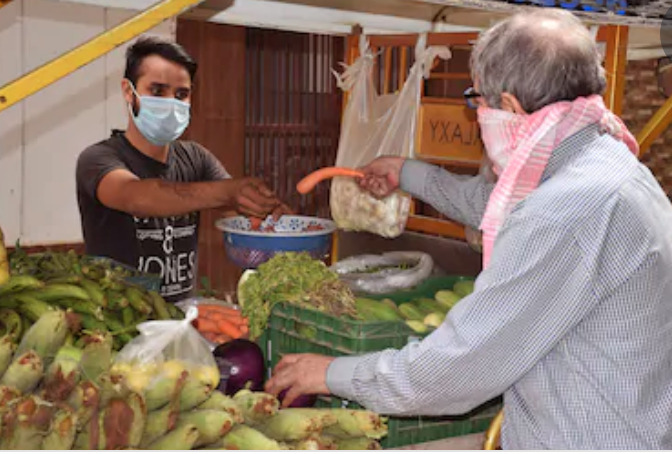Caution: (75, 7, 663, 271)
